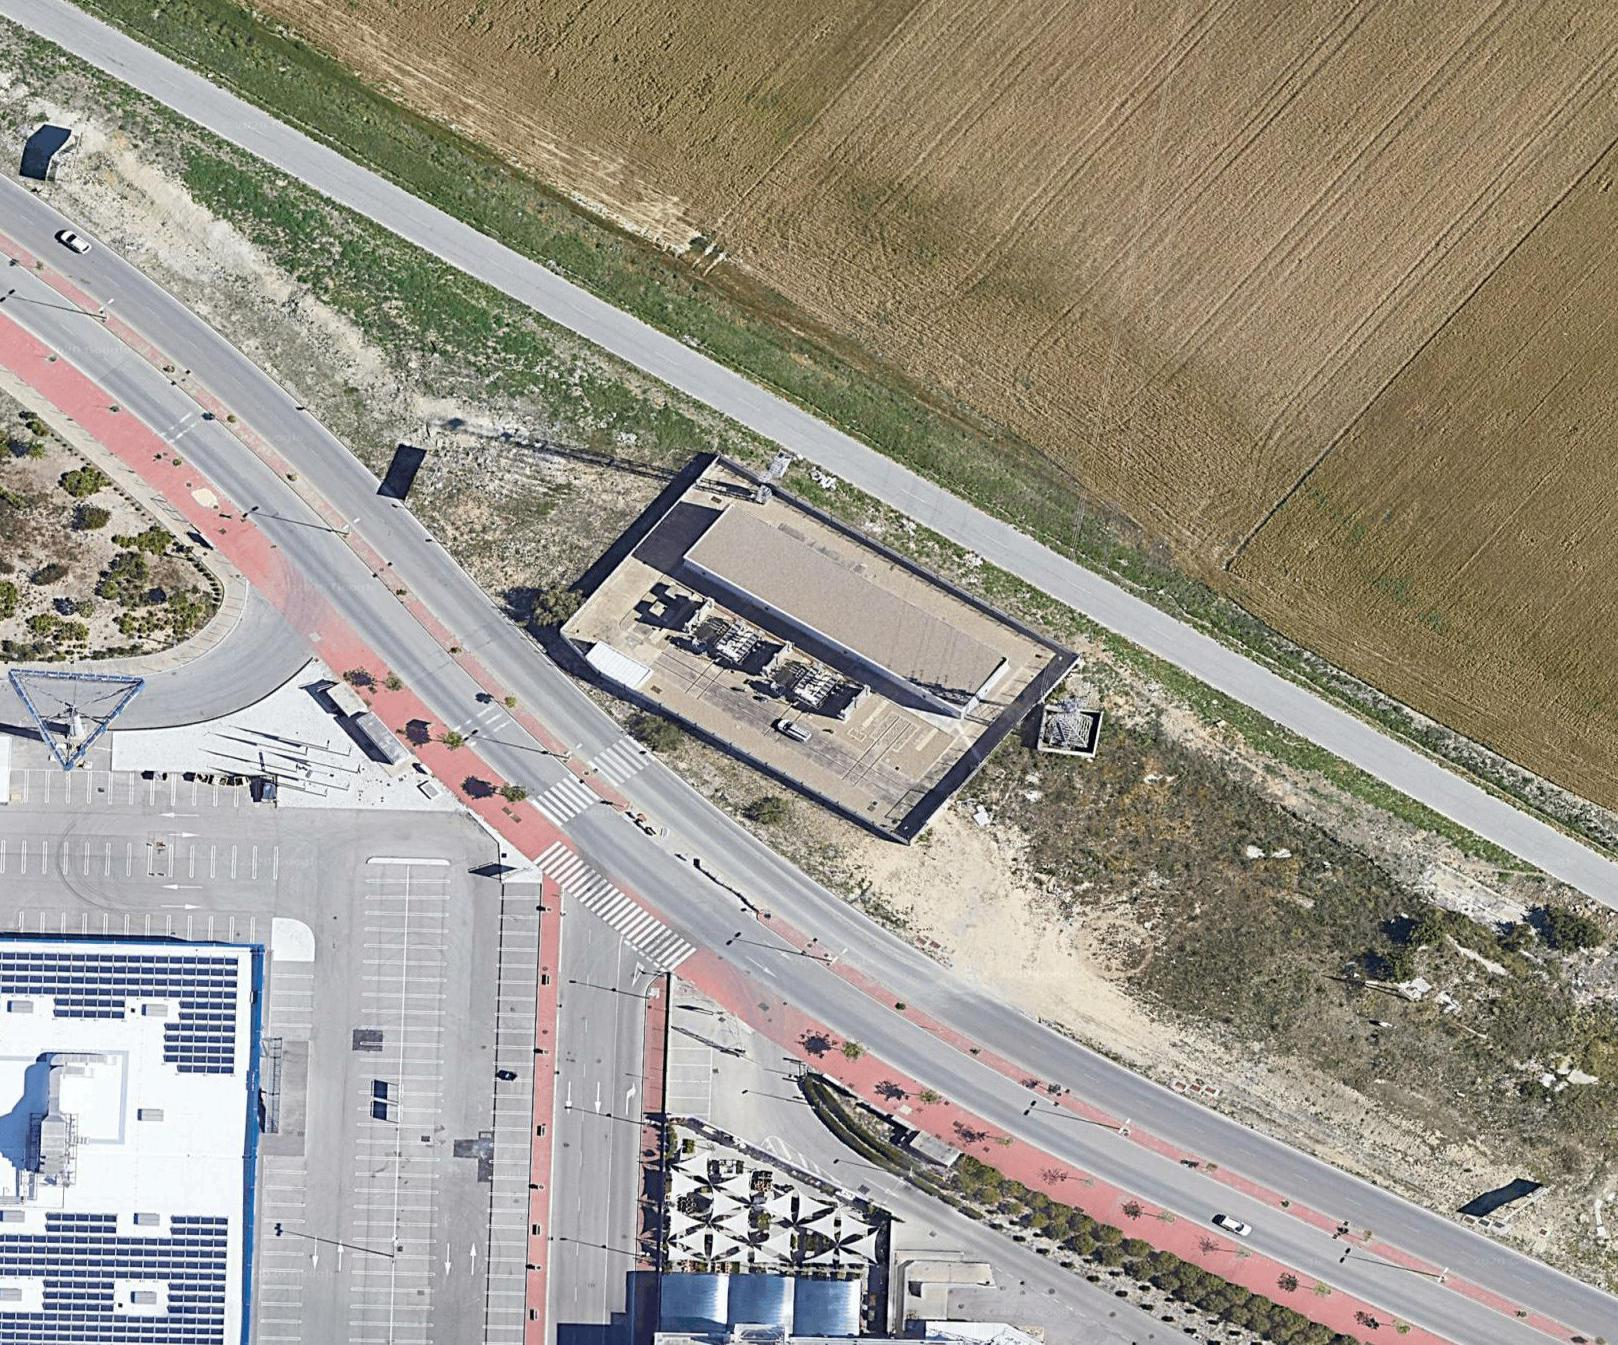substation: (636, 578, 872, 744)
